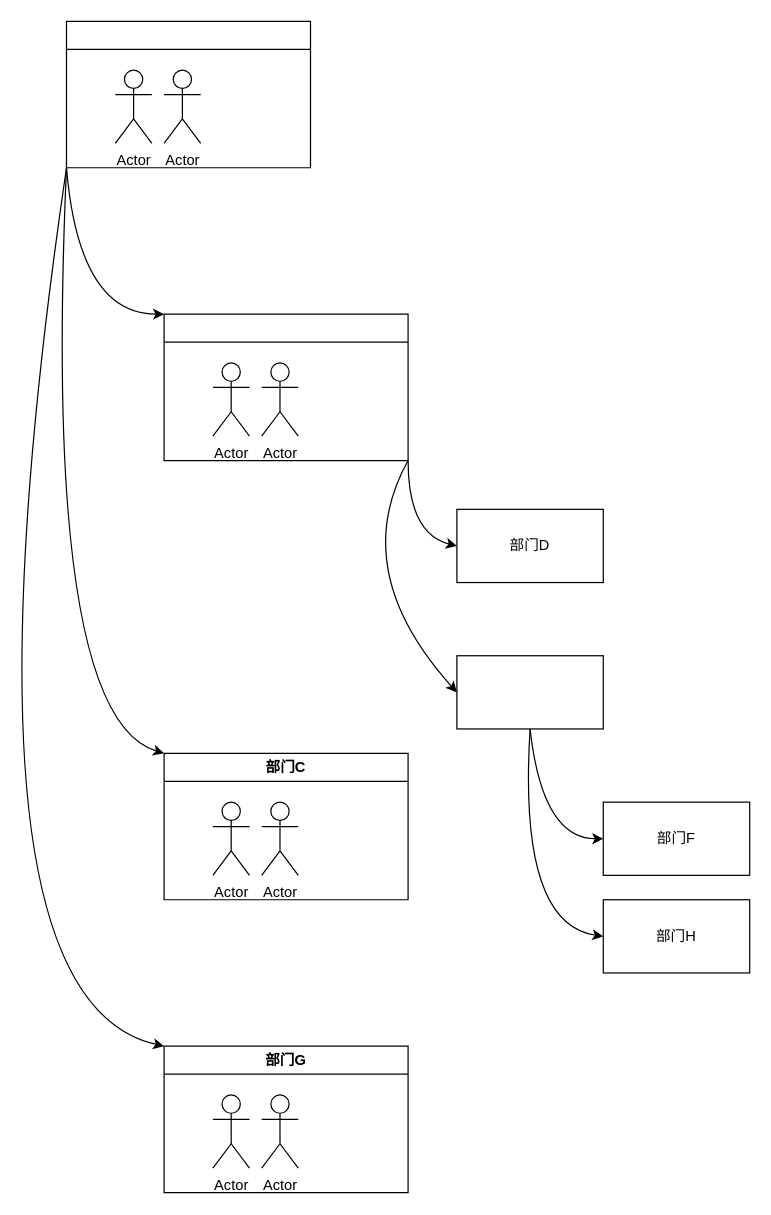
Image size: 771x1215. Some labels were removed from this diagram. The box of each missing label's shape, as (x1, y1, x2, y2) in pixels:
部门A: (65, 20, 310, 168)
部门B: (163, 313, 408, 461)
部门E: (456, 655, 603, 729)
